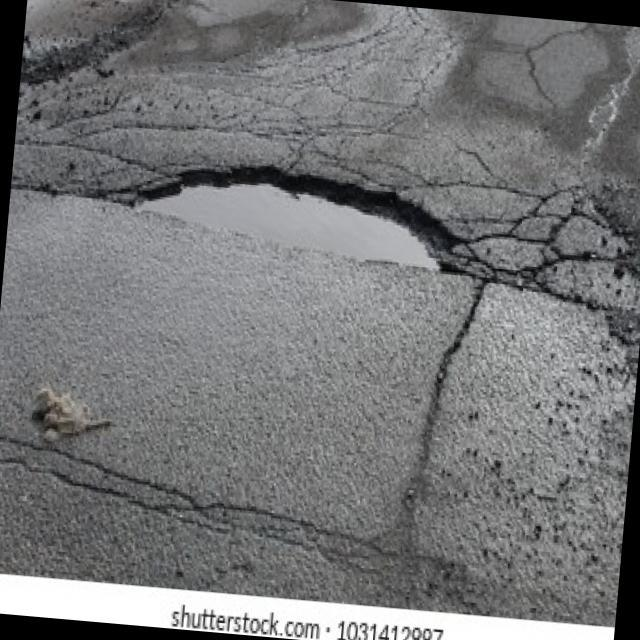Pothole: (121, 154, 466, 278)
